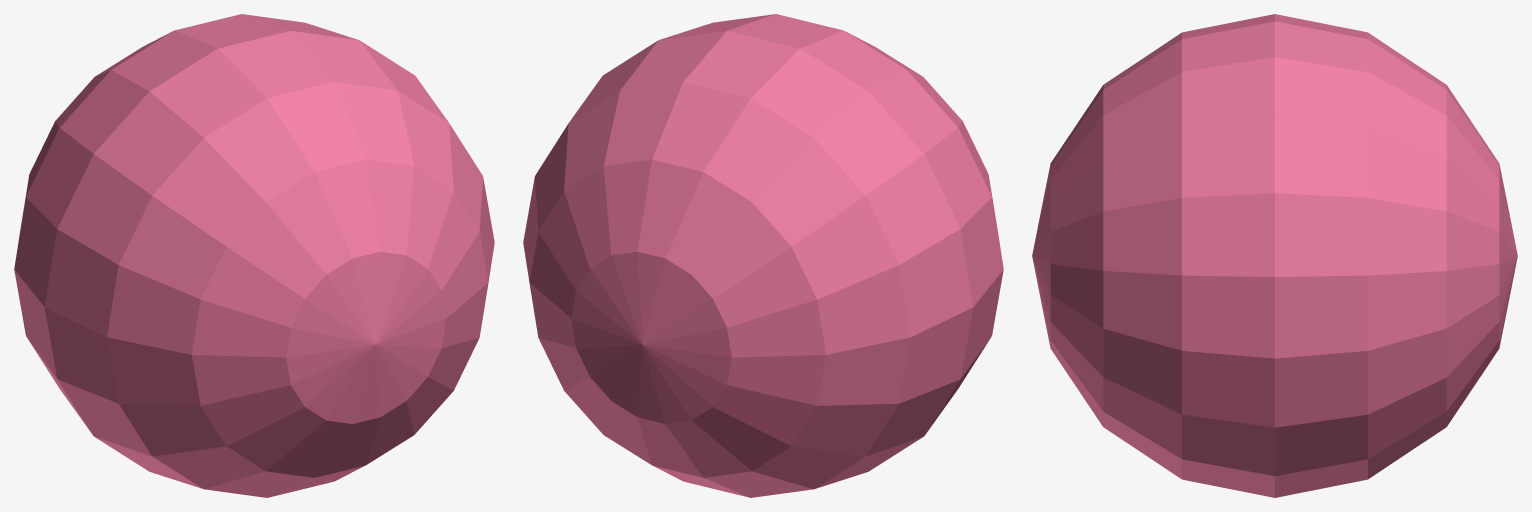
File: Prowler.glb
3 views of the same model, side by side, from view 1: azimuth 30°, elevation 25°; view 2: azimuth 150°, elevation 25°; view 3: azimuth 270°, elevation 25° (orthographic).
Visible parts, largest first — view 1: Prowler_body; view 2: Prowler_body; view 3: Prowler_body.
Boxes of the visible parts, x1,y1,x2,y2 form: Prowler_body: [14, 14, 494, 497]; Prowler_body: [523, 14, 1003, 497]; Prowler_body: [1032, 14, 1517, 497].
Bounding box in the file's own units: 0.64 × 0.6303 × 0.64.
